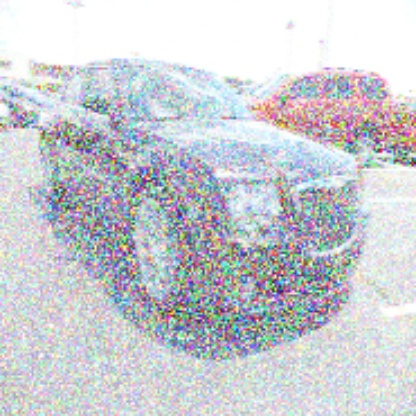Vehicle: (38, 57, 372, 321)
